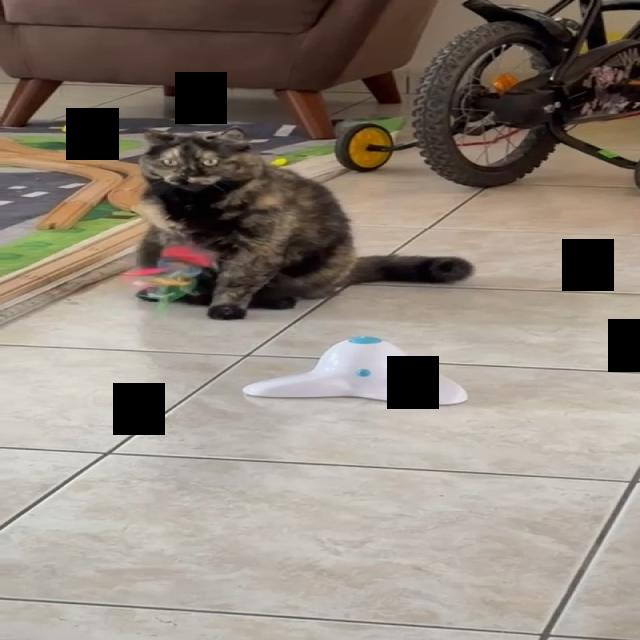authorized: (133, 125, 475, 320)
